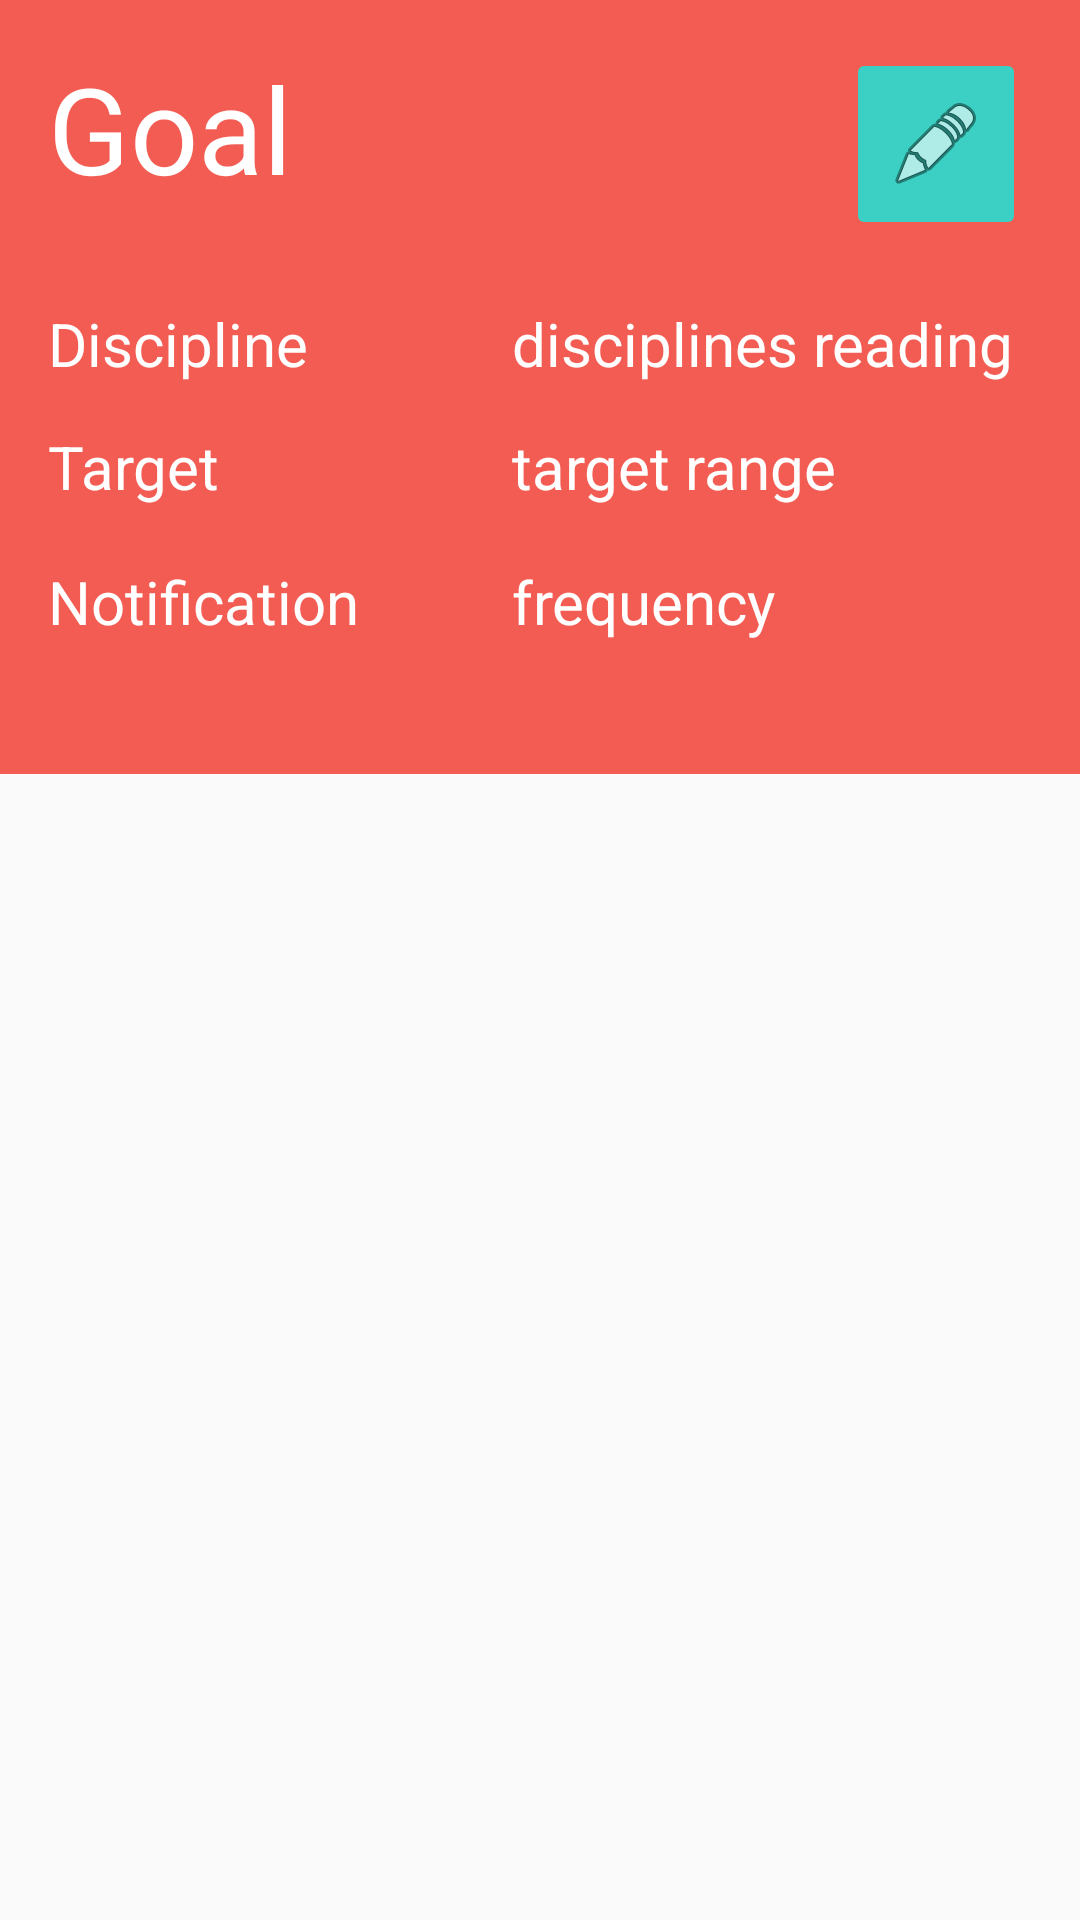

Screen size 1080x1920. Icon name, then its center in pixels as (x=x, y=y):
edit: (x=936, y=144)
